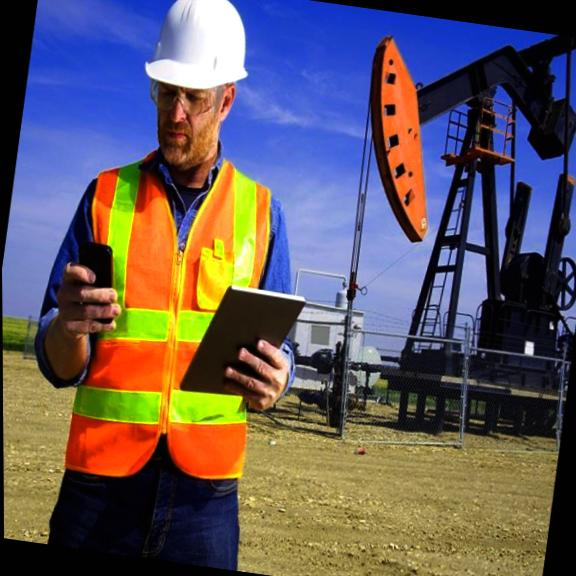safety_vest: (41, 138, 300, 486)
